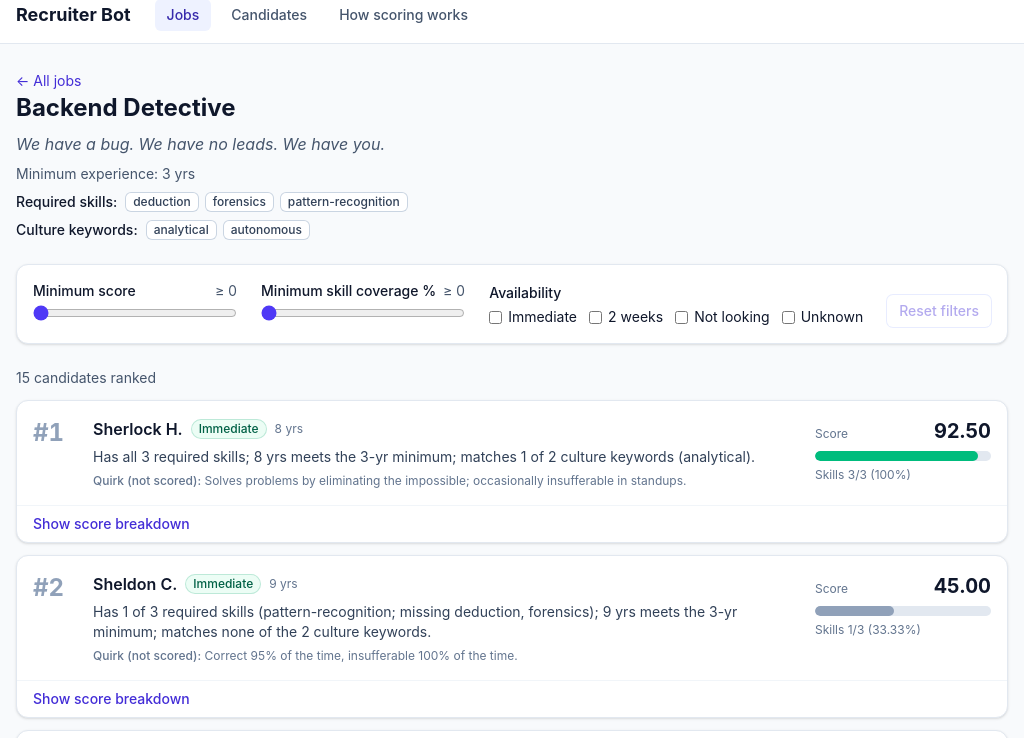
it: job matches page › explains when culture was not scored and weights were rescaled
Expected: the heading "Backend Detective" is shown, x1=16 y1=93 x2=236 y2=122
Click the button "Show score breakdown" below "Sherlock H." at x=52, y=524, box x1=33 y1=506 x2=991 y2=542
(page scrolled)
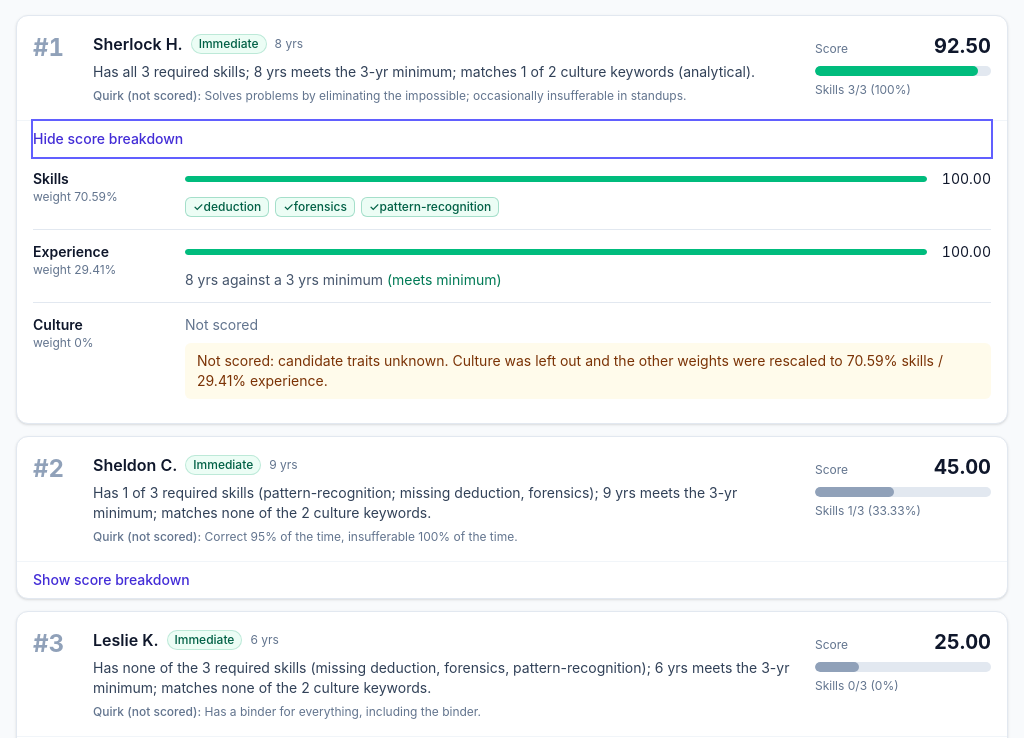
Now the text "Not scored: candidate traits unknown" shows "70.59% skills / 29.41% experience", box x1=185 y1=343 x2=991 y2=399
